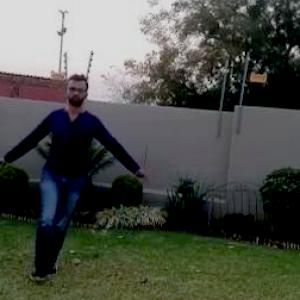land: (0, 79, 134, 264)
